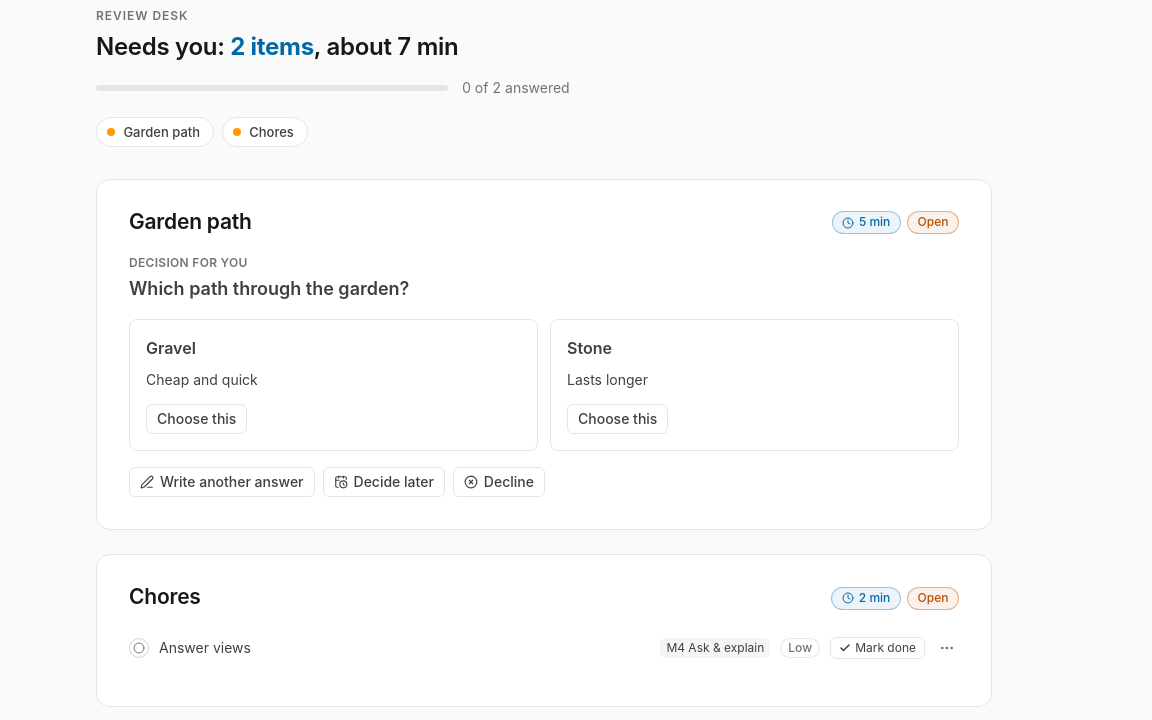
Test: the hand-back prompt › appears when a checklist tick is the last answer; "Keep it open" closes it
Click the button with aria-label "Choose Stone".
click(618, 419)  # box [567,404,668,434]
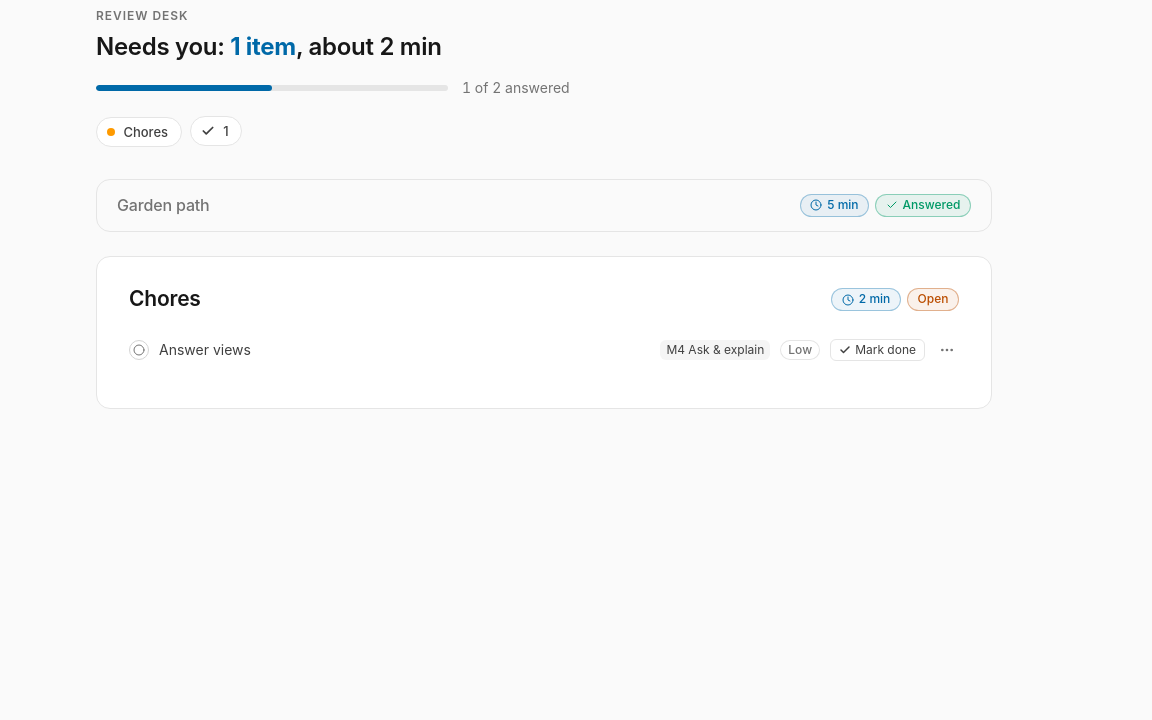
Click the button named "Mark “Answer views” done".
click(139, 350)  # box [129,340,149,360]
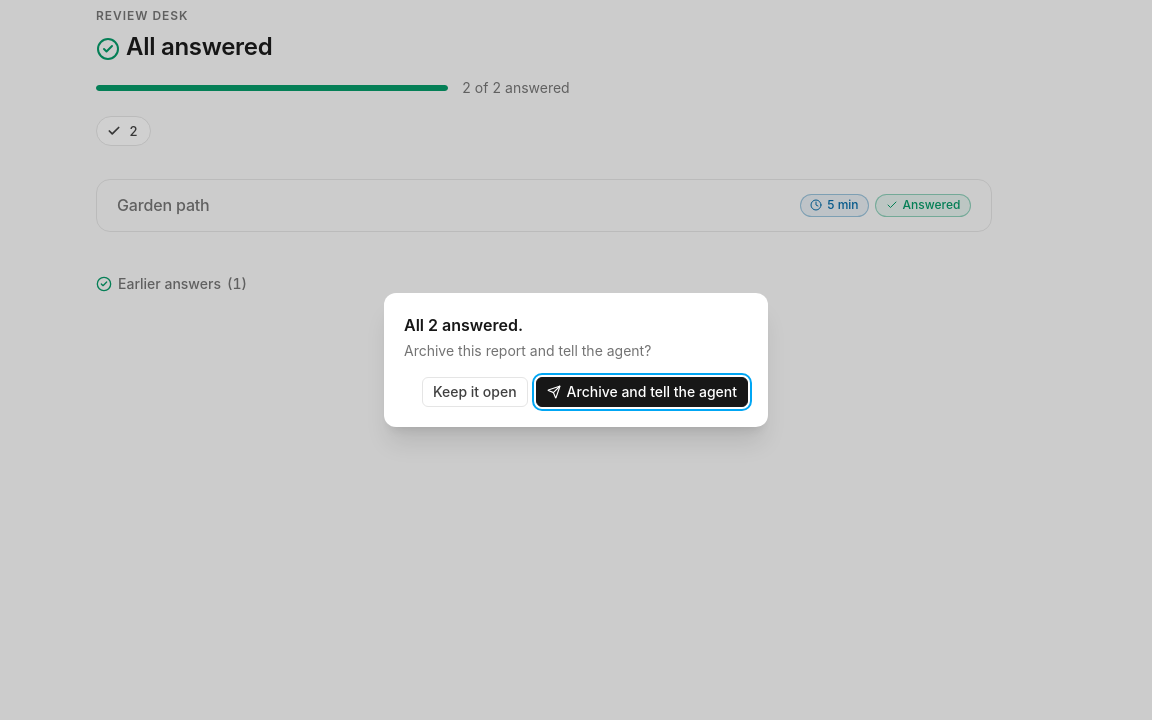
Click the button "Keep it open".
click(475, 392)  # box [422,377,528,407]
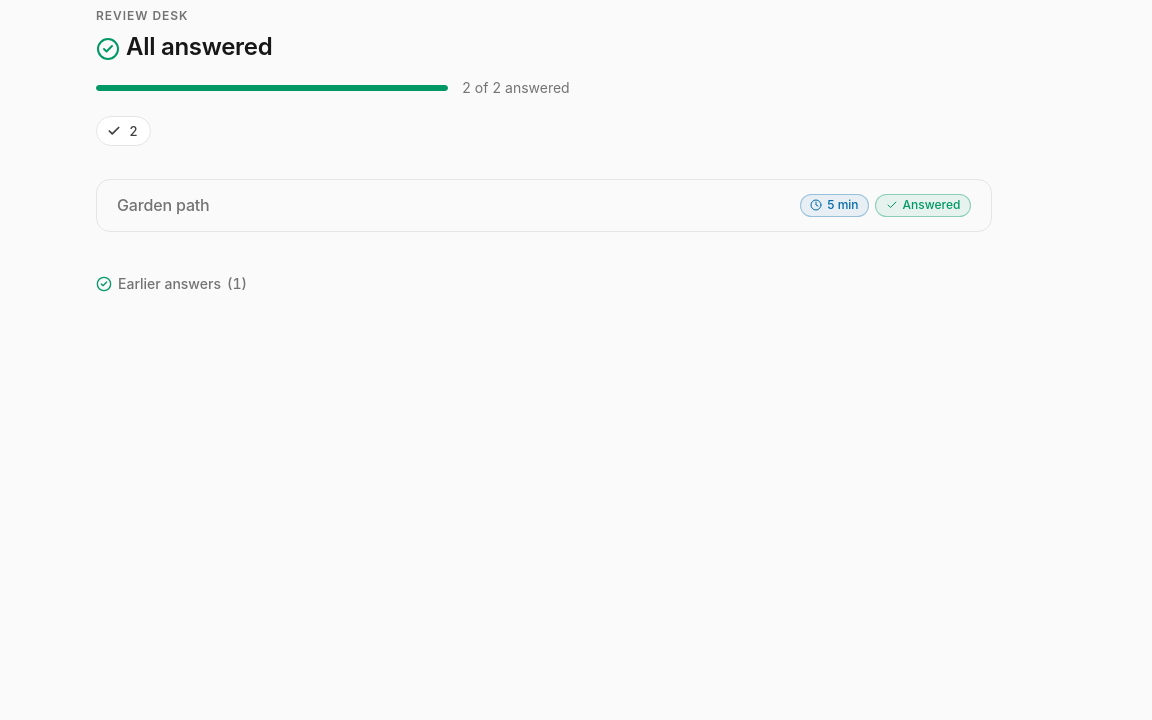
Check: the dialog is gone
